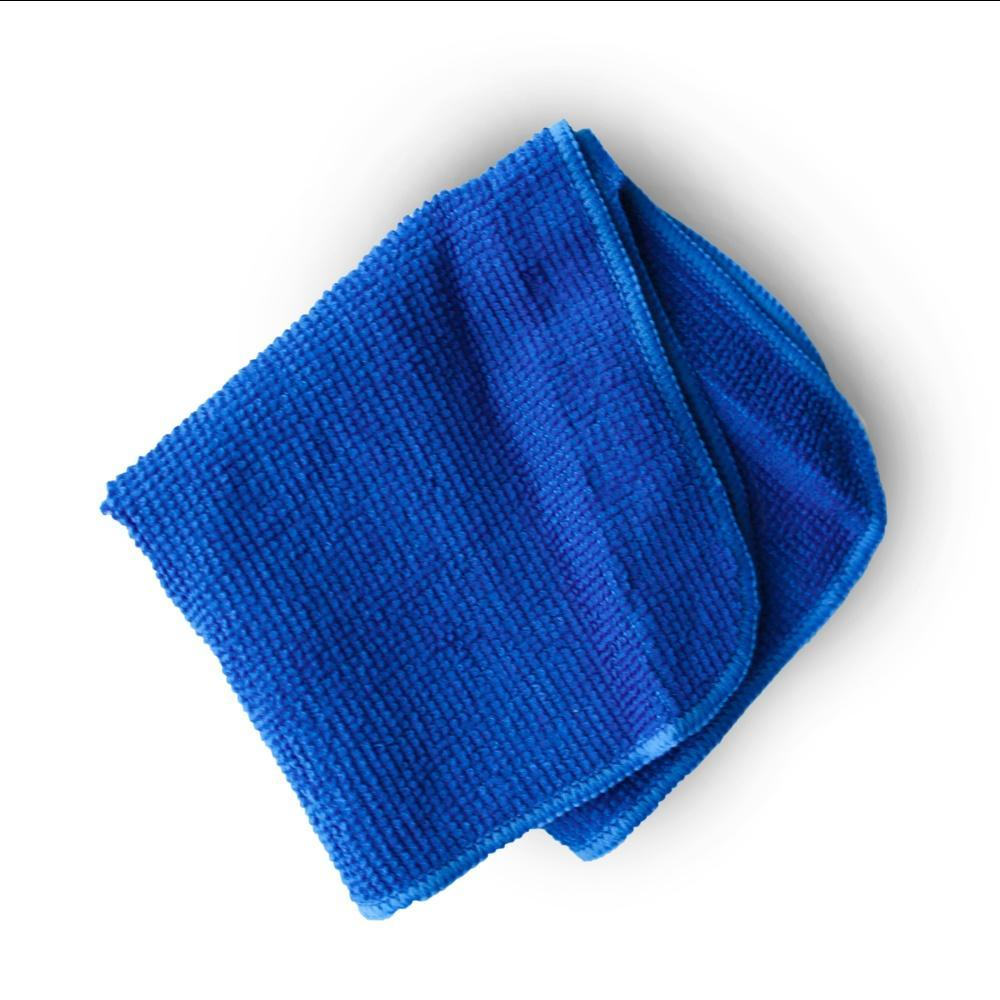towel: (52, 125, 892, 872)
